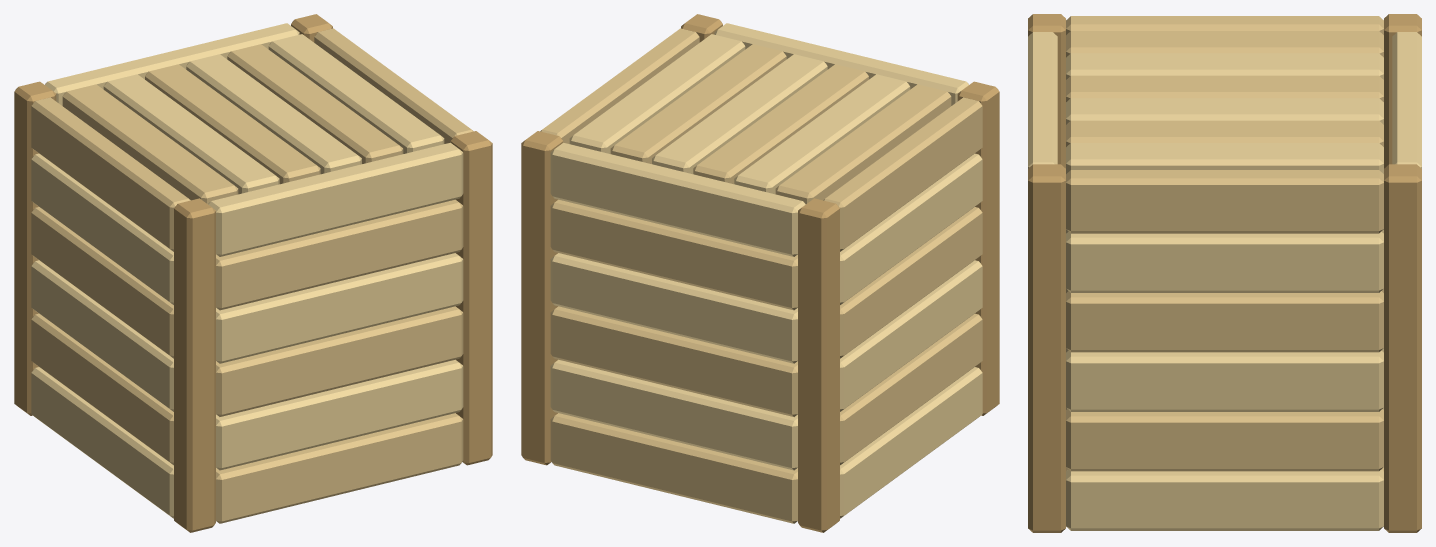
File: FTF_Prop_WoodenCrate_2m_Cube.glb
3 renders of one model, left to right at view 1: azimuth 30°, elevation 25°; view 2: azimuth 150°, elevation 25°; view 3: azimuth 270°, elevation 25°, orthographic. The views are drawn at different scales.
Parts seen in each view (by area): view 1: Crate_BackFrontBack_0_1, Crate_BackFrontBack_1_1, Crate_CornerBatten; view 2: Crate_BackFrontBack_0_1, Crate_BackFrontBack_1_1, Crate_CornerBatten; view 3: Crate_BackFrontBack_1_1, Crate_BackFrontBack_0_1, Crate_CornerBatten.
Boxes of the visible parts, x1,y1,x2,y2 form: Crate_BackFrontBack_0_1: (31,28,473,523); Crate_BackFrontBack_1_1: (31,23,463,518); Crate_CornerBatten: (14,14,492,532); Crate_BackFrontBack_0_1: (540,28,982,523); Crate_BackFrontBack_1_1: (550,23,982,518); Crate_CornerBatten: (521,14,999,532); Crate_BackFrontBack_1_1: (1028,32,1421,530); Crate_BackFrontBack_0_1: (1066,16,1383,471); Crate_CornerBatten: (1028,14,1421,532).
Bounding box in the file's own units: 2 × 2 × 2.
